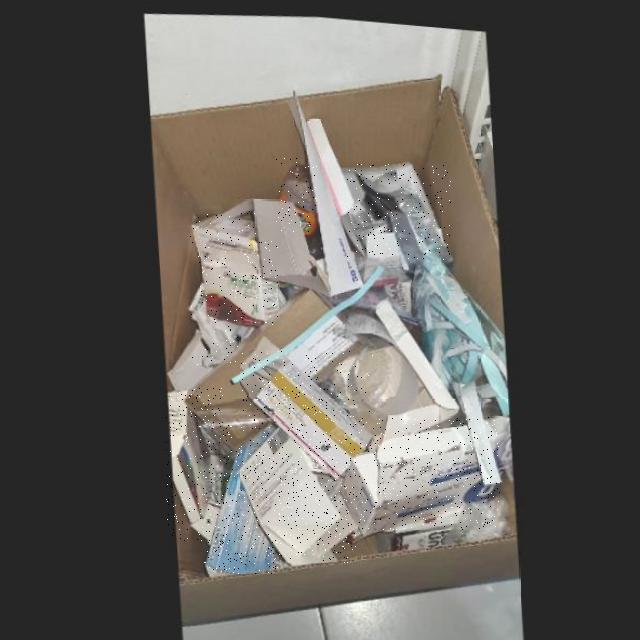metal: (347, 164, 451, 260)
paper: (340, 417, 500, 530), (237, 422, 356, 561), (237, 423, 356, 562), (239, 351, 373, 473), (204, 420, 284, 573), (166, 388, 223, 541), (199, 238, 278, 324), (190, 298, 238, 364), (190, 211, 256, 257)
plastic: (276, 158, 317, 231)
